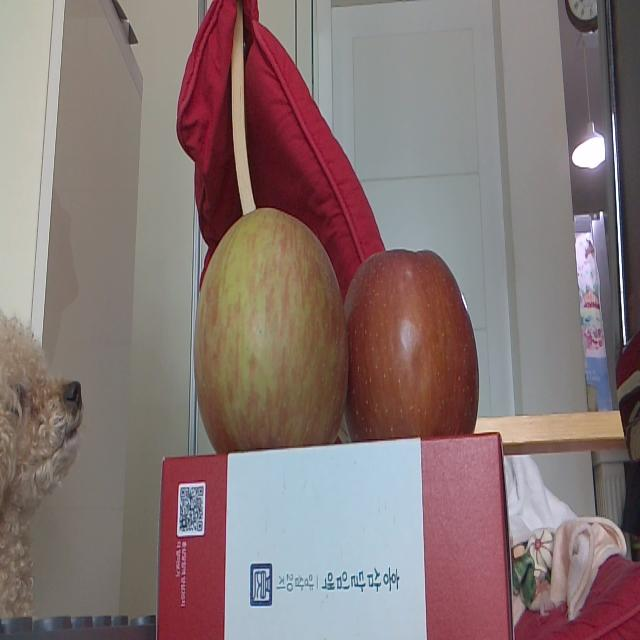apple: (193, 208, 349, 444), (344, 250, 479, 435)
